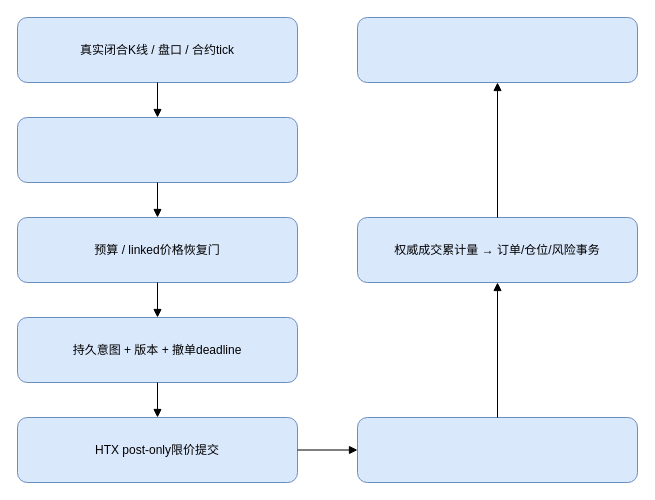
Image size: 655x500. Some labels were removed from this diagram. The shapes that lost their labels are listed below. From the top down, each one's centre as x and y in pixels, then its label:
At (x=497, y=49): "既有退出规则 / 按持仓版本管理".
At (x=157, y=149): "同一候选质量 + 结构成本计划".
At (x=497, y=449): "按原client id查询 / 逾期撤单再查".
